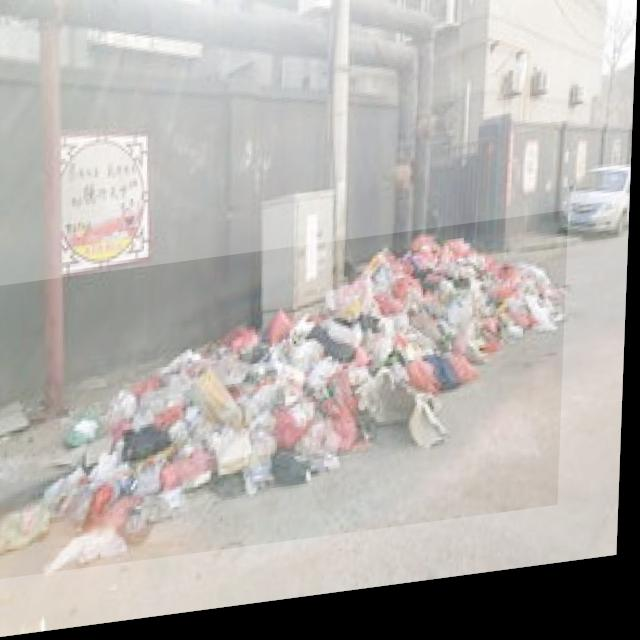garbage: (0, 226, 571, 581)
